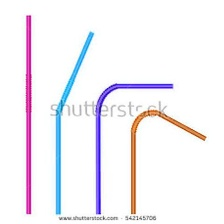drinking_straw: (89, 76, 177, 217), (125, 106, 209, 214), (51, 27, 97, 217), (18, 10, 37, 217)
